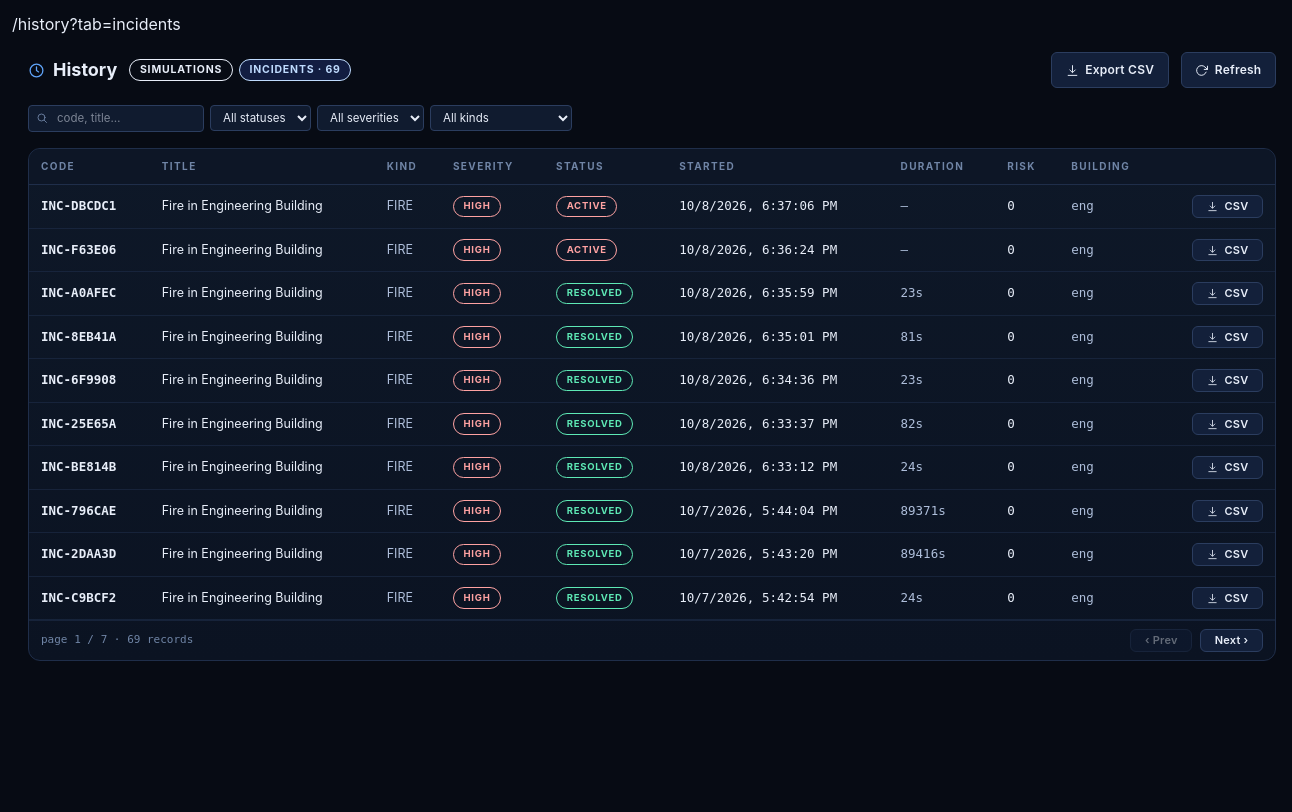
History §62 — incidents tab › applies severity/status/kind filters from the URL
Select "HIGH" in the dropdown with test id "filter-inc-severity": (370, 118) [317,105,424,131]
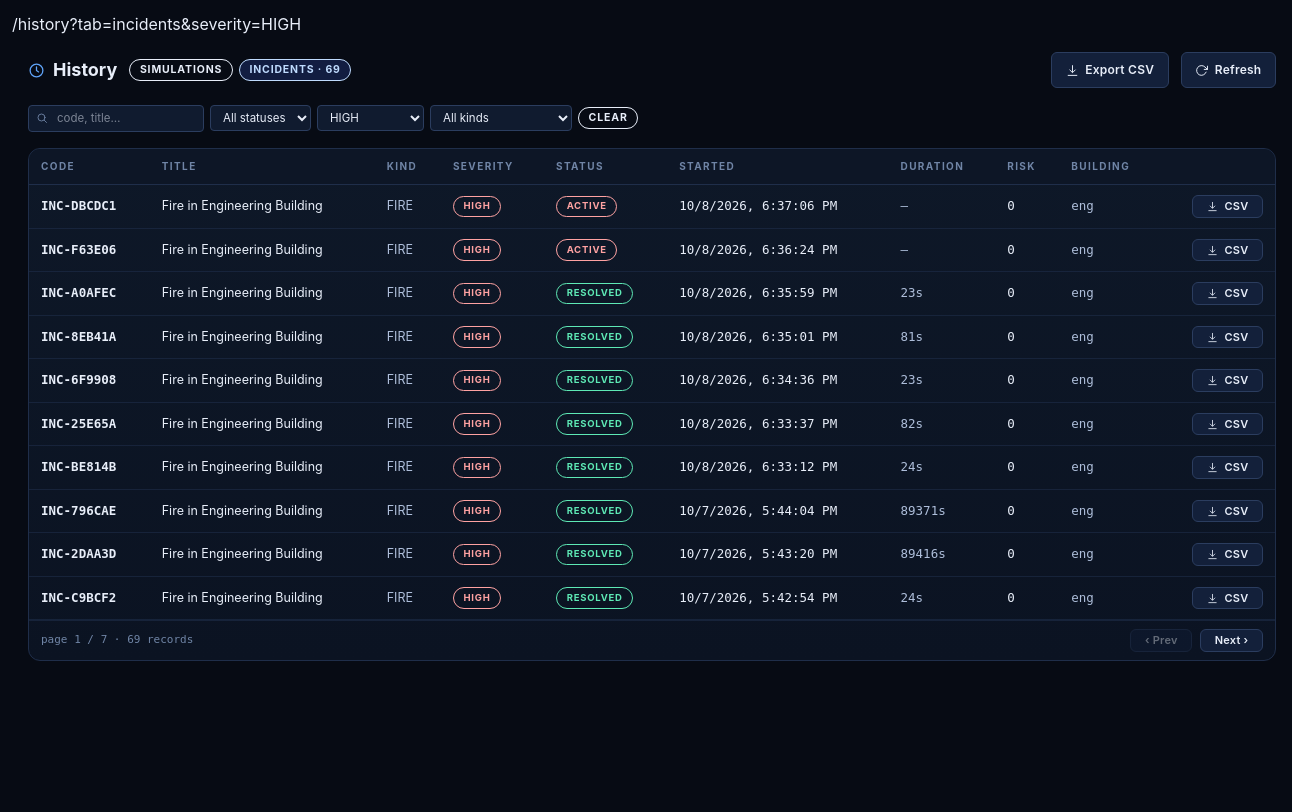
Check: the text with test id "loc" shows "severity=HIGH", box [12,14,301,34]
